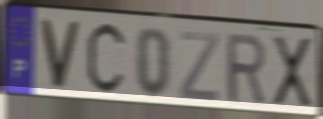0: (133, 25, 173, 101)
C: (84, 19, 129, 100)
R: (224, 32, 268, 108)
V: (37, 16, 83, 95)
X: (270, 34, 315, 111)
Z: (178, 29, 221, 104)
